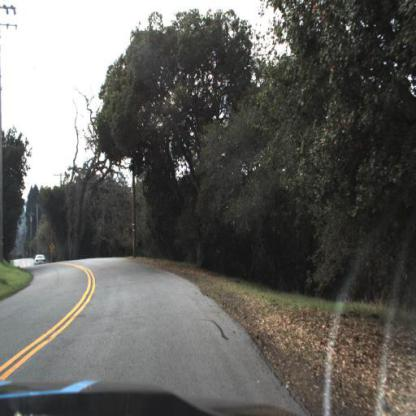car: (28, 243, 51, 269)
